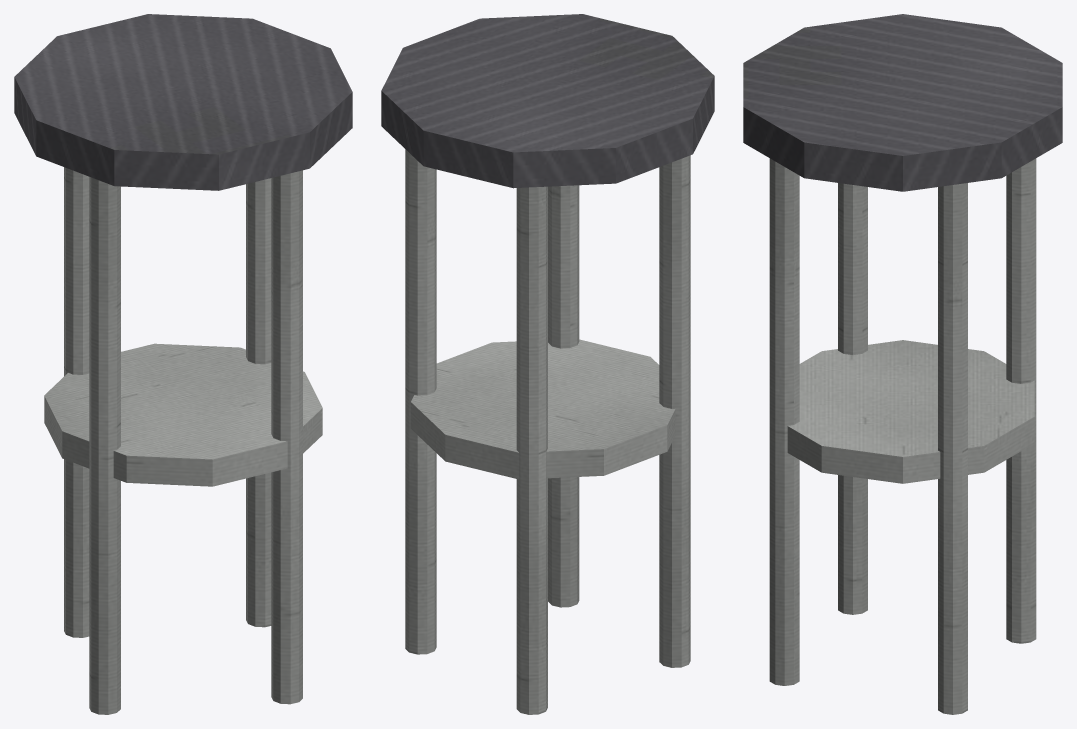
File: stool.glb
3 views of the same model, side by side, from view 1: azimuth 30°, elevation 25°; view 2: azimuth 150°, elevation 25°; view 3: azimuth 270°, elevation 25° (orthographic).
Parts seen in each view (by area): view 1: NC_stool; view 2: NC_stool; view 3: NC_stool.
Part boxes in pixels (box(x1,y1,x2,y2)): NC_stool: box(14, 14, 352, 714); NC_stool: box(381, 14, 714, 714); NC_stool: box(743, 14, 1062, 714).
Size of the model in its own units: 0.34 by 0.64 by 0.3234.
Materials: 2 (2 with a texture image).
